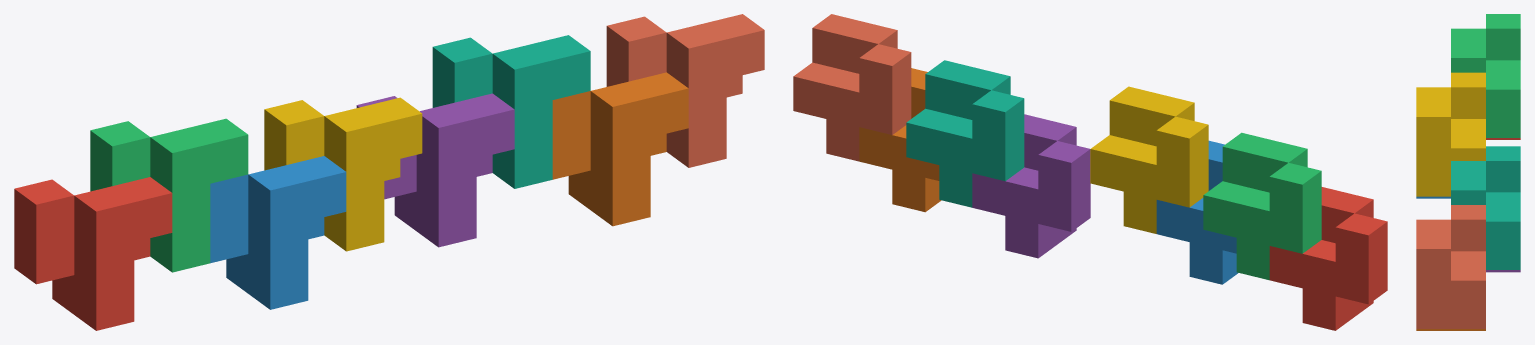
Rendered from tiling.obj.
3 renders of one model, left to right at view 1: azimuth 30°, elevation 25°; view 2: azimuth 150°, elevation 25°; view 3: azimuth 270°, elevation 25°, orthographic. The views are drawn at different scales.
Visible parts, largest first — view 1: copy_1_domain_1, copy_1_domain_2, copy_1_domain_6, copy_1_domain_8, copy_1_domain_4, copy_1_domain_7, copy_1_domain_3, copy_1_domain_5; view 2: copy_1_domain_7, copy_1_domain_3, copy_1_domain_4, copy_1_domain_8, copy_1_domain_1, copy_1_domain_5, copy_1_domain_6, copy_1_domain_2; view 3: copy_1_domain_8, copy_1_domain_4, copy_1_domain_3, copy_1_domain_7, copy_1_domain_6, copy_1_domain_2, copy_1_domain_5.
Boxes of the visible parts, bbox=[...] form: copy_1_domain_1: bbox=[14, 177, 172, 330]; copy_1_domain_2: bbox=[210, 156, 346, 309]; copy_1_domain_6: bbox=[552, 72, 688, 226]; copy_1_domain_8: bbox=[606, 14, 764, 167]; copy_1_domain_4: bbox=[264, 97, 422, 251]; copy_1_domain_7: bbox=[432, 35, 590, 188]; copy_1_domain_3: bbox=[90, 118, 248, 272]; copy_1_domain_5: bbox=[356, 93, 514, 247]; copy_1_domain_7: bbox=[906, 60, 1024, 207]; copy_1_domain_3: bbox=[1203, 132, 1321, 280]; copy_1_domain_4: bbox=[1090, 86, 1208, 233]; copy_1_domain_8: bbox=[793, 14, 911, 161]; copy_1_domain_1: bbox=[1269, 187, 1387, 330]; copy_1_domain_5: bbox=[972, 114, 1090, 258]; copy_1_domain_6: bbox=[859, 68, 941, 212]; copy_1_domain_2: bbox=[1156, 140, 1238, 284]; copy_1_domain_8: bbox=[1416, 205, 1485, 328]; copy_1_domain_4: bbox=[1416, 72, 1485, 196]; copy_1_domain_3: bbox=[1451, 14, 1520, 137]; copy_1_domain_7: bbox=[1451, 146, 1520, 269]; copy_1_domain_6: bbox=[1416, 329, 1485, 330]; copy_1_domain_2: bbox=[1416, 196, 1450, 198]; copy_1_domain_5: bbox=[1486, 270, 1520, 272].
Size of the model in its own units: 18 by 4 by 3.
